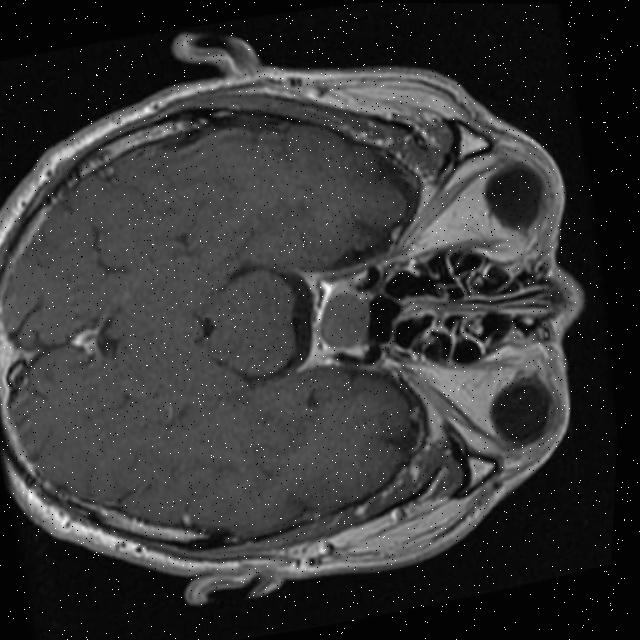Pituitary: (312, 287, 376, 355)
